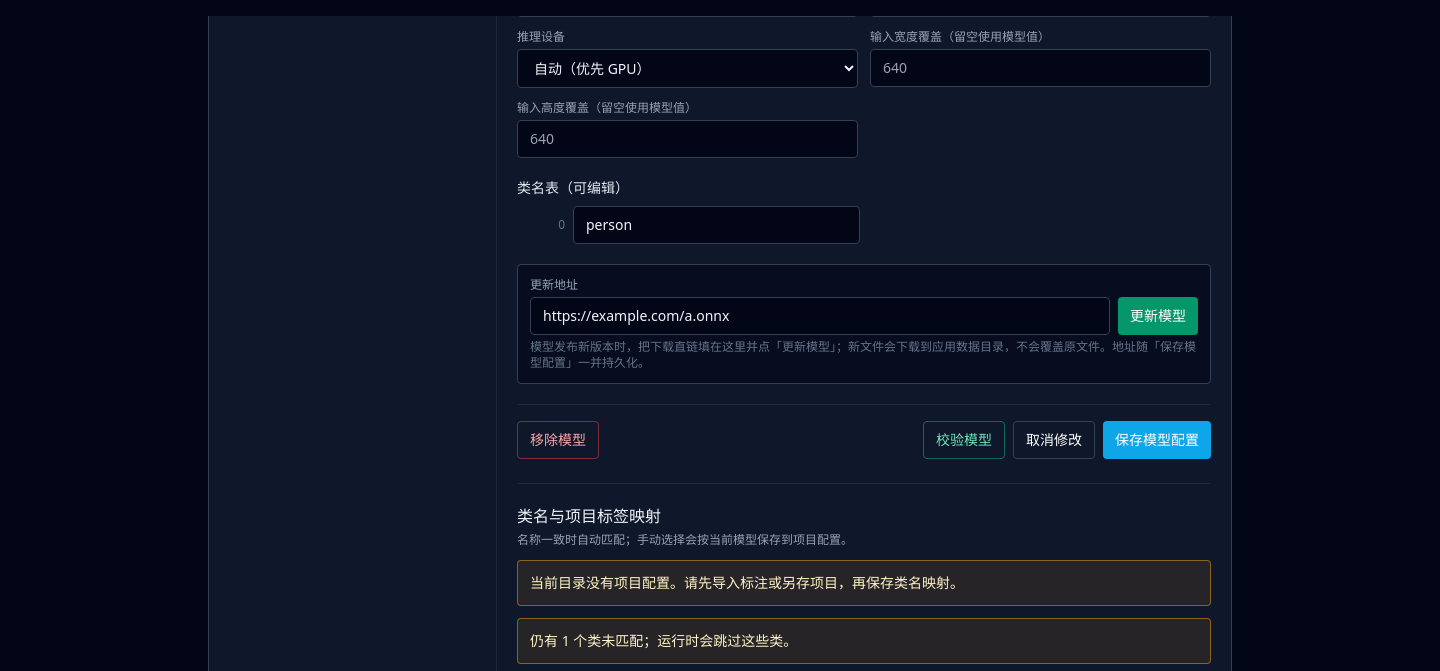
Test: stops offering retry after the editing model has changed
The width and height of the screenshot is (1440, 671).
(page scrolled)
Click the button "保存模型配置".
click(1157, 440)  # box [1103, 421, 1211, 459]
(page scrolled)
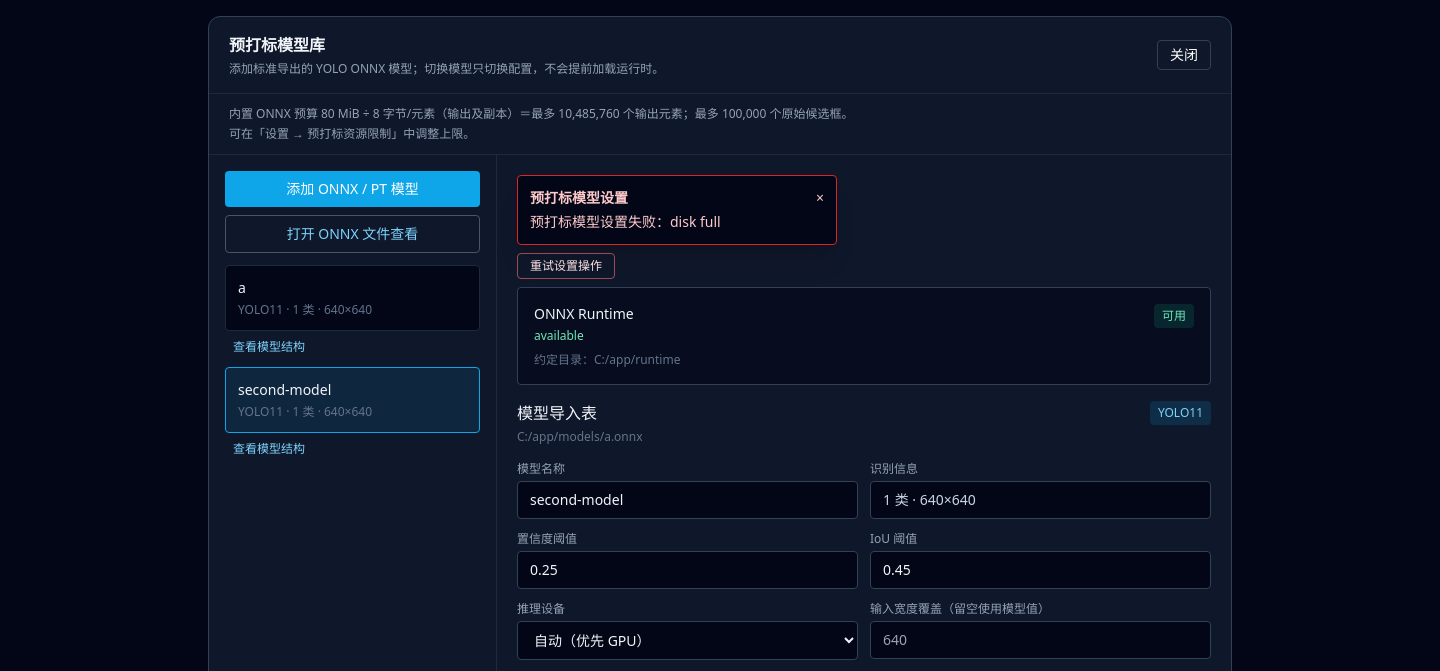
Click the button "重试设置操作".
click(566, 266)  # box [517, 253, 615, 279]
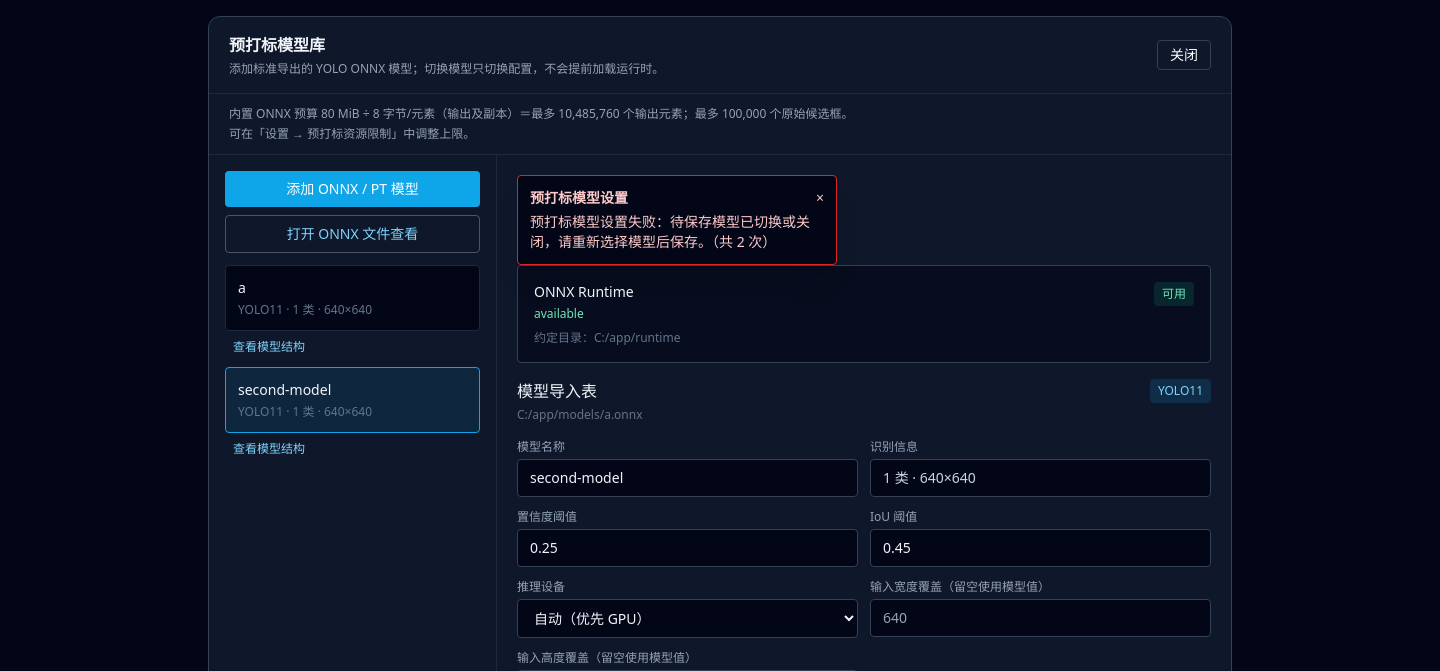
Check: the text "待保存模型已切换或关闭，请重新选择模型后保存。" is shown, box [530, 212, 810, 251]
